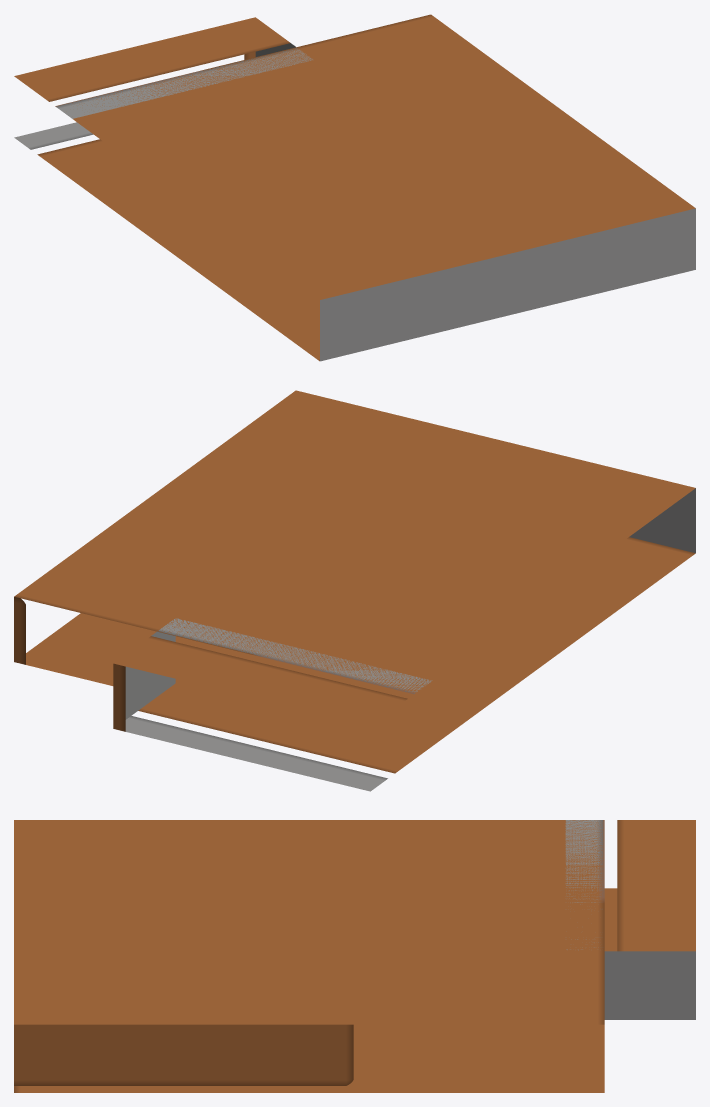
The model's file is section-1.obj.
3 views of the same model, one above another, from view 1: azimuth 30°, elevation 25°; view 2: azimuth 150°, elevation 25°; view 3: azimuth 270°, elevation 25° (orthographic). The views are drawn at different scales.
Size of the model in its own units: 1.02 by 0.1598 by 1.44.
